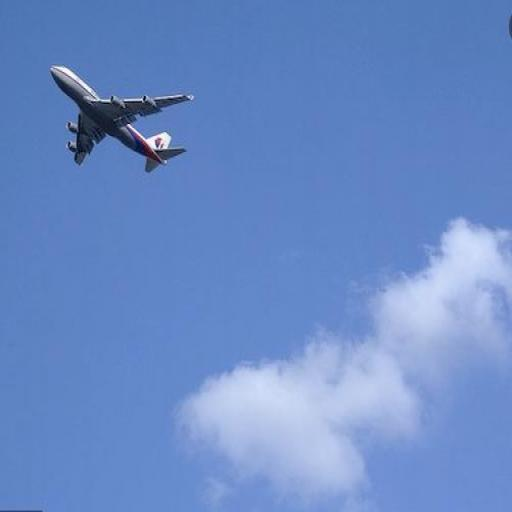aircraft: (46, 56, 197, 180)
